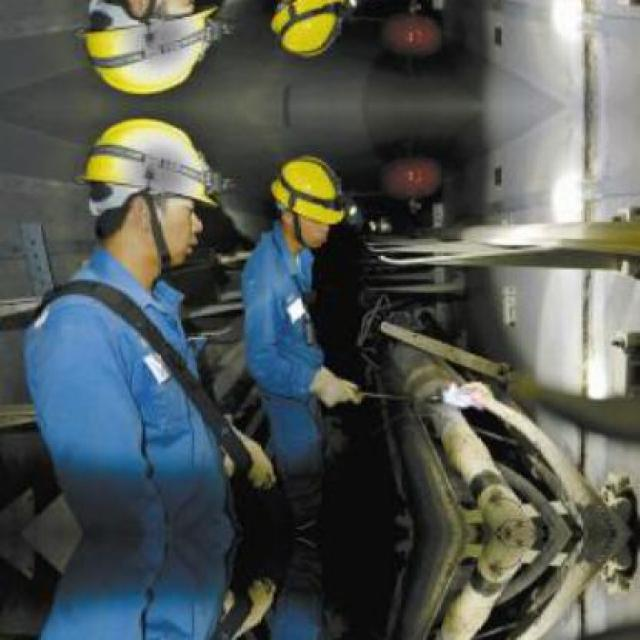helmet: (79, 110, 204, 268), (78, 0, 204, 103), (273, 155, 349, 251), (272, 0, 350, 59)
